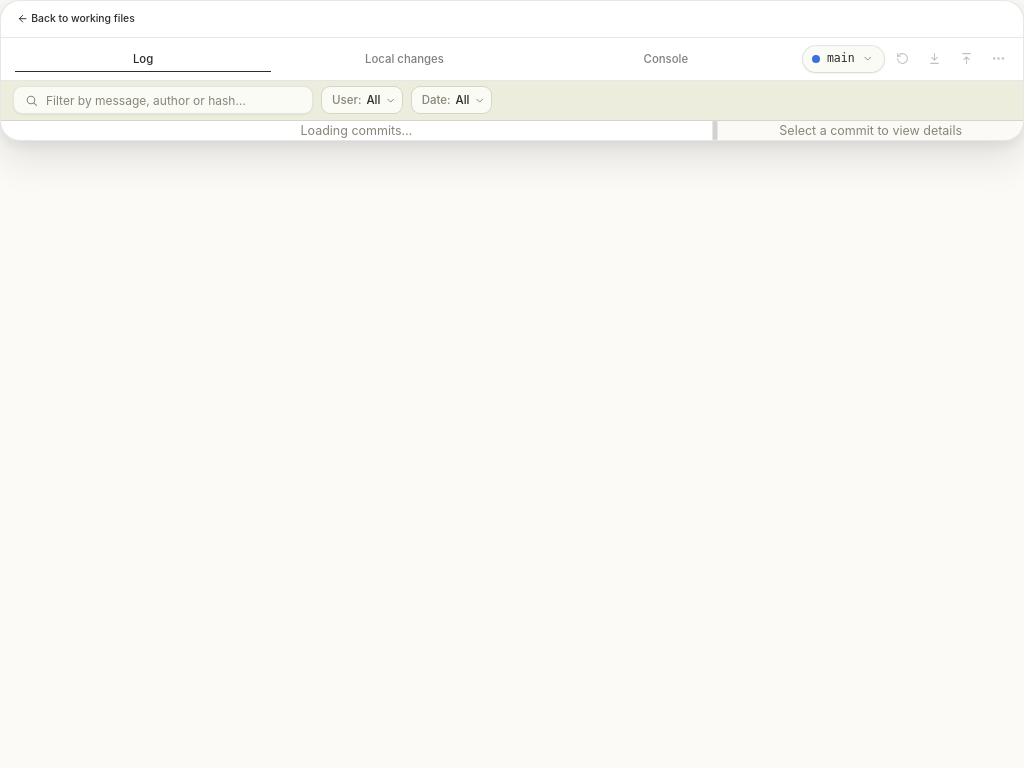
it: GitPanel tab strip › keeps the branch pill reachable while Git is busy so the popover can open
Step 1. Click the button with aria-label "Branches" → (843,59), box [802, 45, 885, 73]
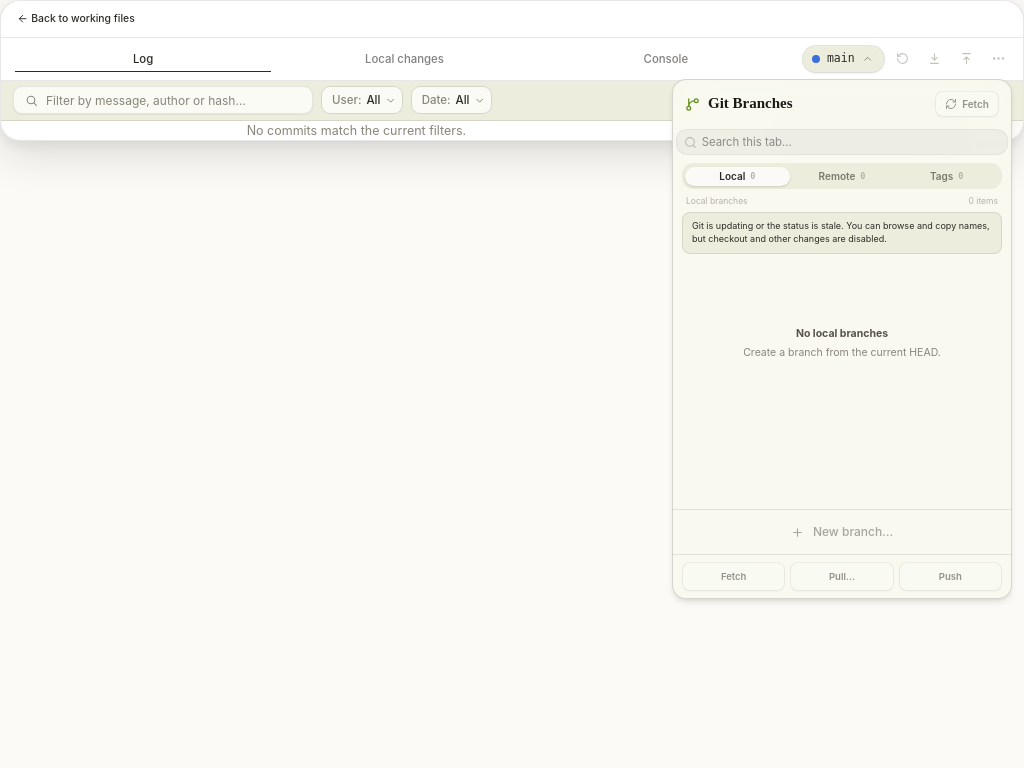
Now the dropdown with placeholder "Search this tab…" is shown, box [697, 134, 1007, 150]
